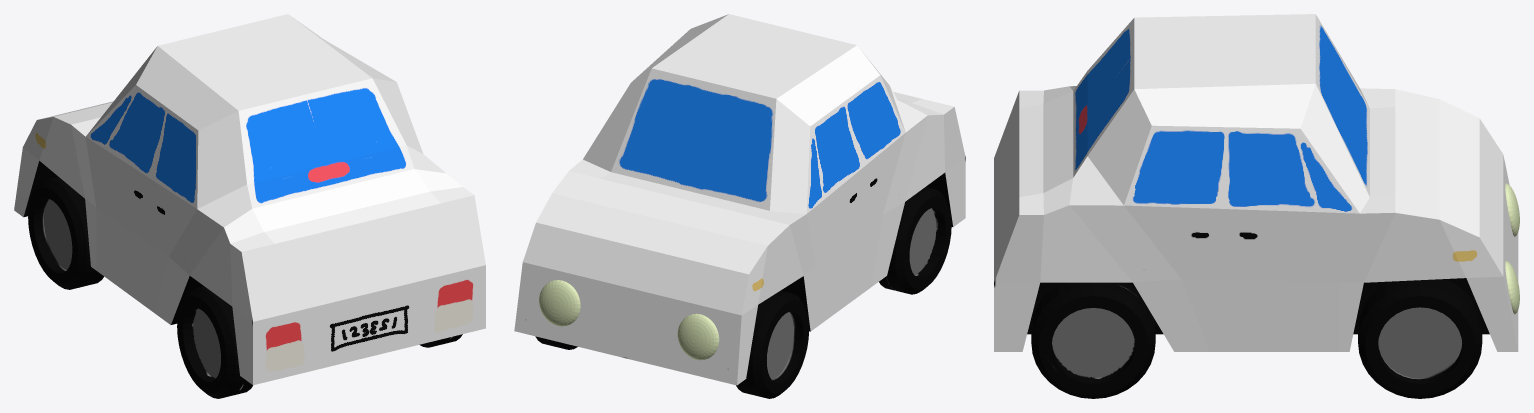
Rendered from car.fbx.
3 renders of one model, left to right at view 1: azimuth 30°, elevation 25°; view 2: azimuth 150°, elevation 25°; view 3: azimuth 270°, elevation 25°, orthographic. The views are drawn at different scales.
Parts seen in each view (by area): view 1: Car; view 2: Car; view 3: Car.
Part boxes in pixels (x1=…): Car: x1=14, y1=14, x2=485, y2=398; Car: x1=514, y1=14, x2=965, y2=398; Car: x1=994, y1=14, x2=1519, y2=398.
Bounding box in the file's own units: 124 × 211 × 127.
1 material, 1 textured.
